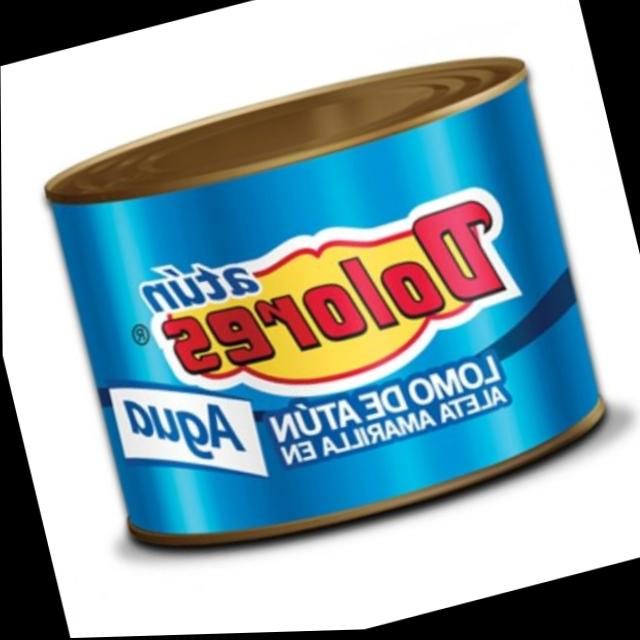Lata: (32, 19, 624, 582)
